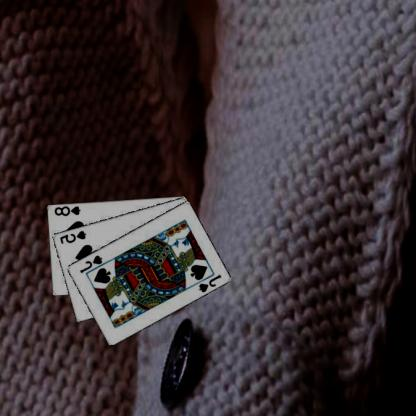5S: (59, 228, 89, 244)
8S: (54, 203, 83, 217)
JS: (79, 252, 105, 274), (198, 272, 224, 294)
